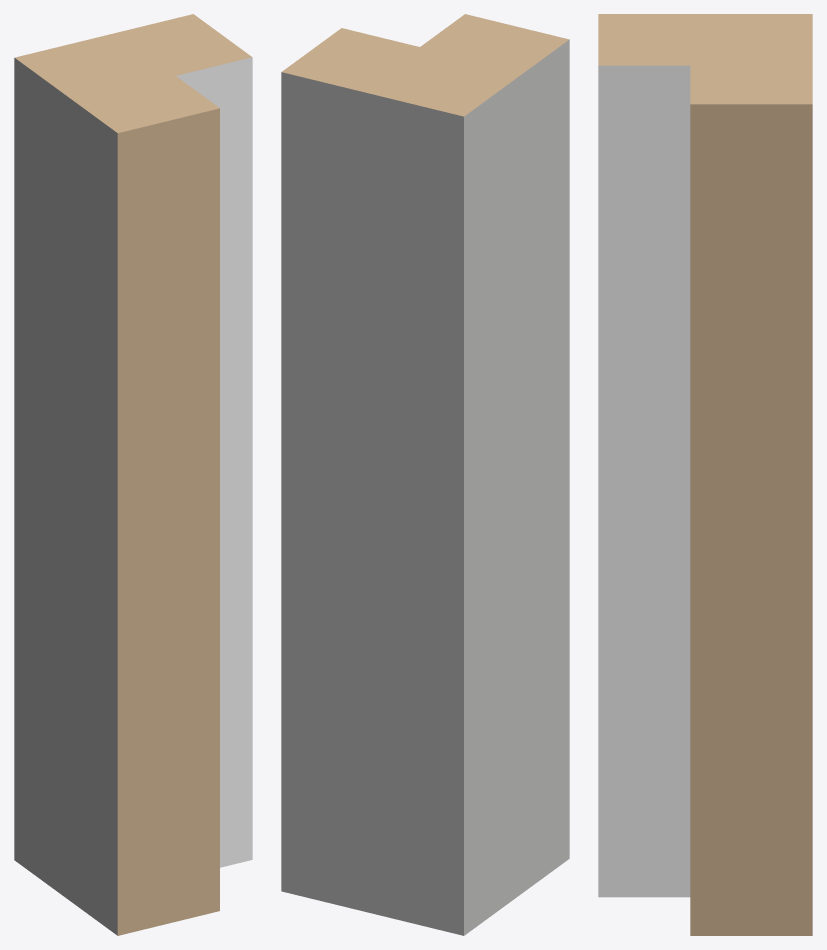
The model's file is buildings_house-wall-corner.fbx.
The picture shows the model from 3 angles, left to right: view 1: azimuth 30°, elevation 25°; view 2: azimuth 150°, elevation 25°; view 3: azimuth 270°, elevation 25°; orthographic projection. The views are drawn at different scales.
Visible parts, largest first — view 1: buildings_house_wall_corner; view 2: buildings_house_wall_corner; view 3: buildings_house_wall_corner.
Boxes of the visible parts, x1,y1,x2,y2 form: buildings_house_wall_corner: [14, 14, 252, 935]; buildings_house_wall_corner: [281, 14, 569, 935]; buildings_house_wall_corner: [598, 14, 812, 935].
Bounding box in the file's own units: 46.67 × 200 × 46.67.
